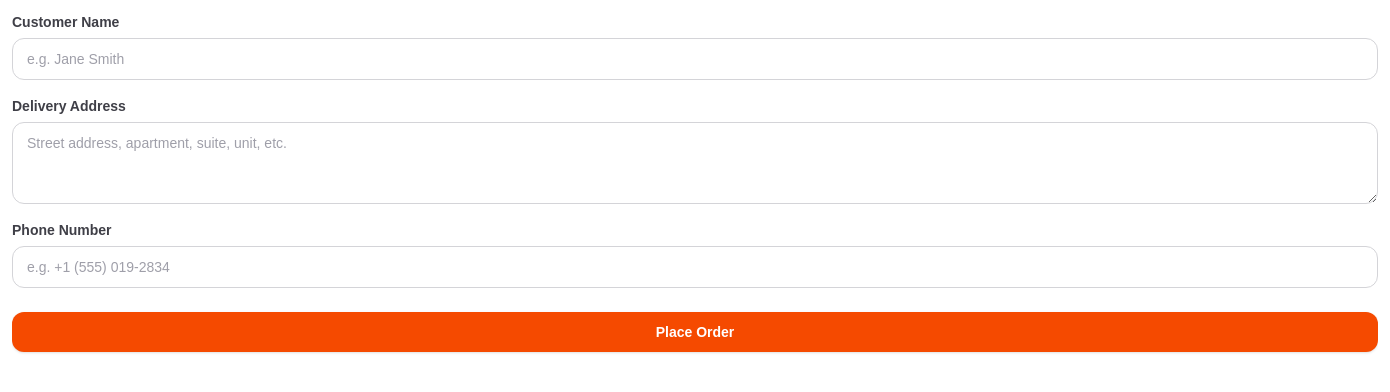
Test: CheckoutForm Component › validates phone number format
Type "John Doe" into the field labelled "Customer Name" at (695, 59), box [12, 38, 1378, 80]
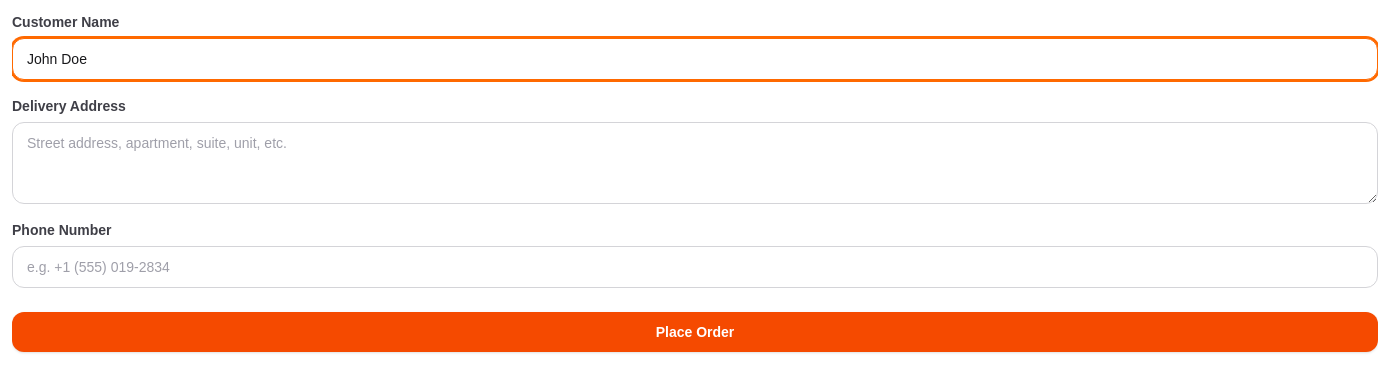
Type "123 Main St" into the text box labelled "Delivery Address" at (695, 163), box [12, 122, 1378, 204]
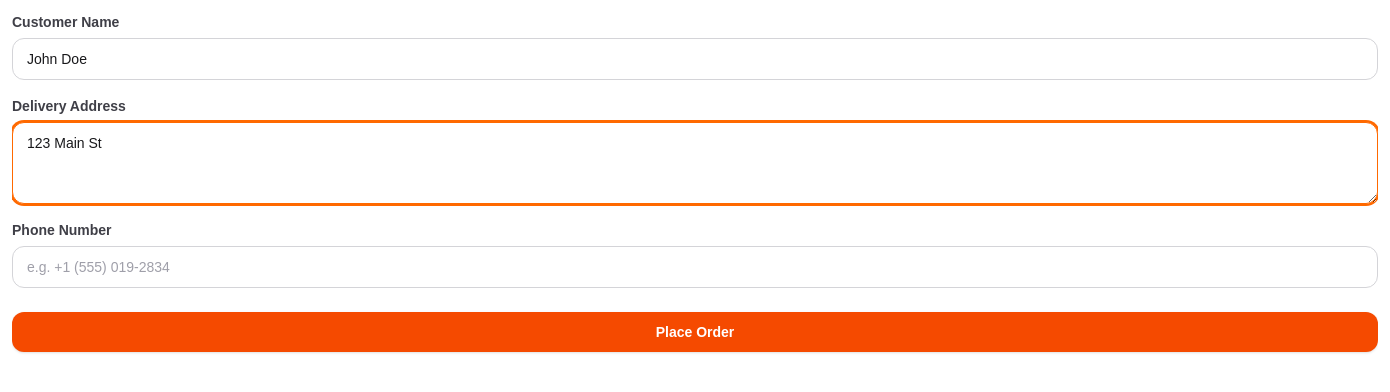
Type "12345" into the field labelled "Phone Number" at (695, 267), box [12, 246, 1378, 288]
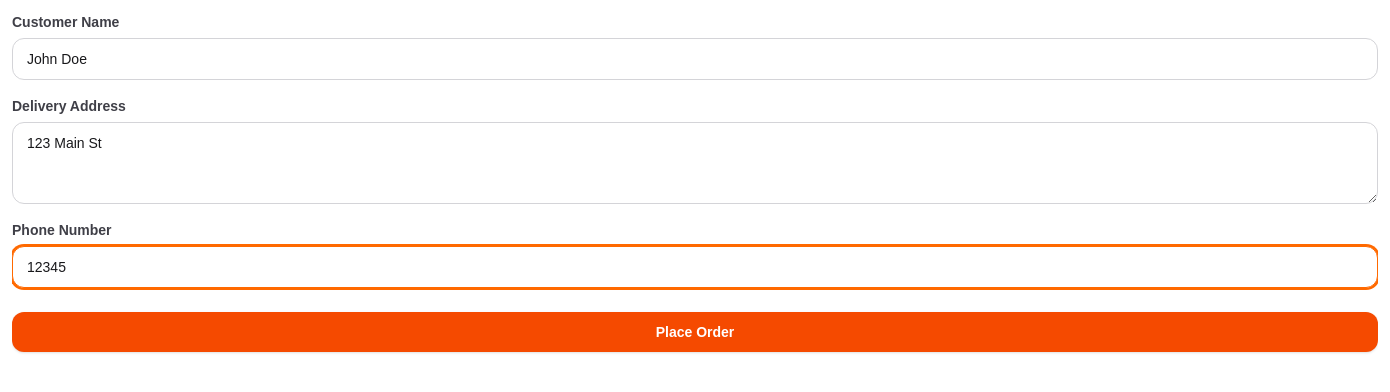
Click the button "Place Order" at (695, 332), box [12, 312, 1378, 352]
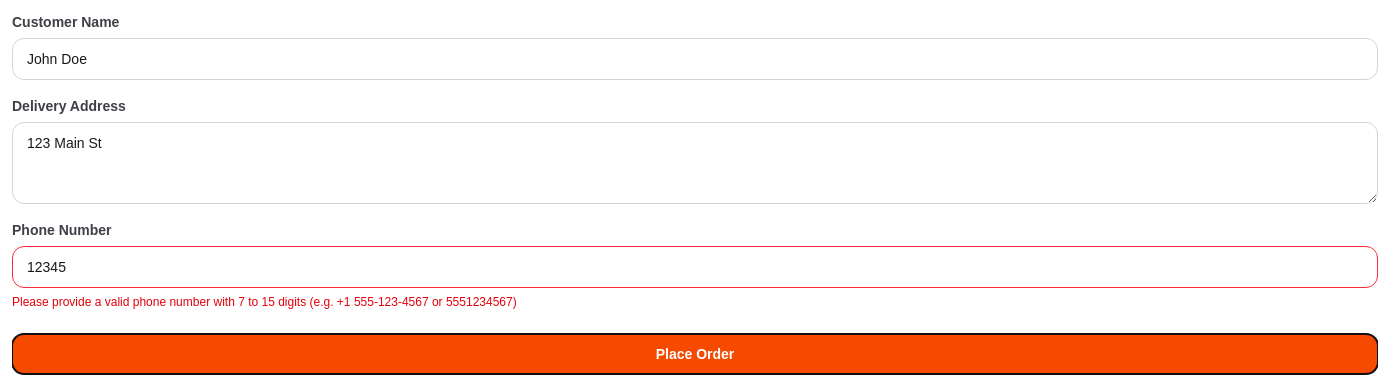
Now the text "valid phone number with 7 to 15 digits" is shown, box [12, 295, 517, 309]
